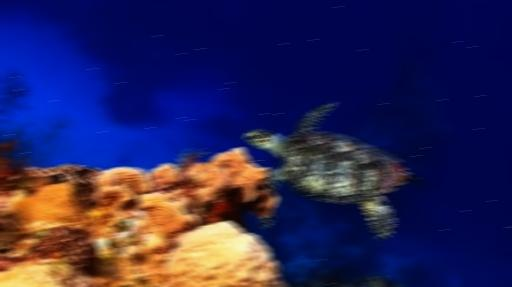Fish: (244, 102, 420, 238)
